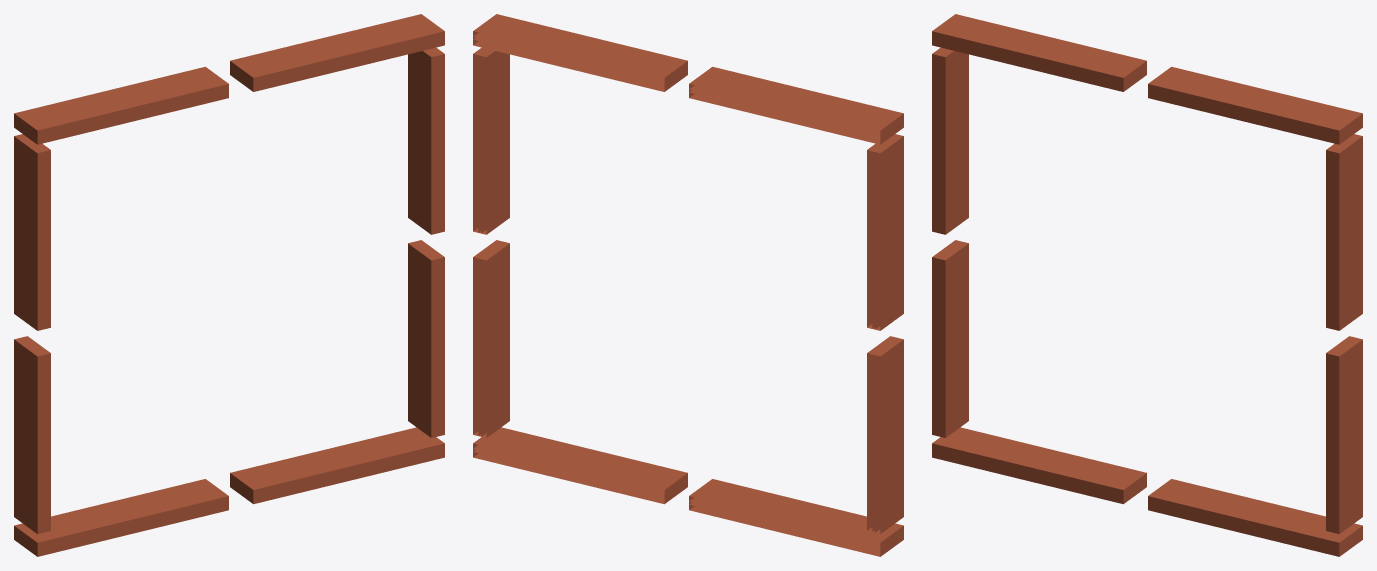
File: construction_1.glb
3 renders of one model, left to right at view 1: azimuth 30°, elevation 25°; view 2: azimuth 150°, elevation 25°; view 3: azimuth 330°, elevation 25°, orthographic.
Parts seen in each view (by area): view 1: c1; view 2: c1; view 3: c1.
Part boxes in pixels (x1=…): c1: x1=14, y1=14, x2=444, y2=556; c1: x1=473, y1=14, x2=903, y2=556; c1: x1=932, y1=14, x2=1362, y2=556.
Bounding box in the file's own units: 30 × 30 × 3.
